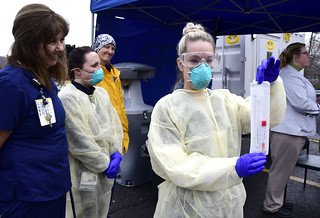bare: (43, 45, 66, 68), (100, 49, 116, 61)
n95: (186, 59, 214, 90), (89, 64, 107, 86)
